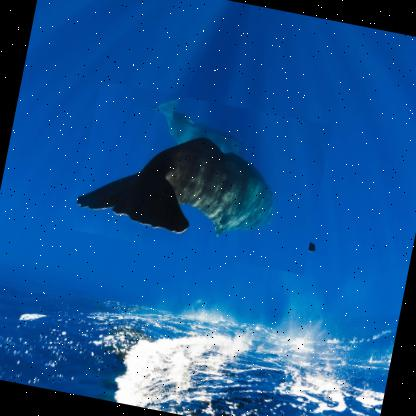sperm_whale: (70, 79, 332, 274)
